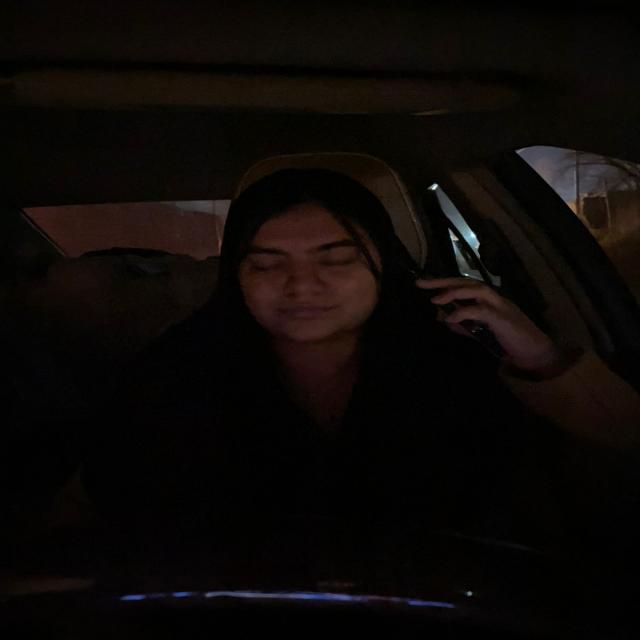mobile: (378, 249, 492, 356)
person: (213, 165, 411, 356)
